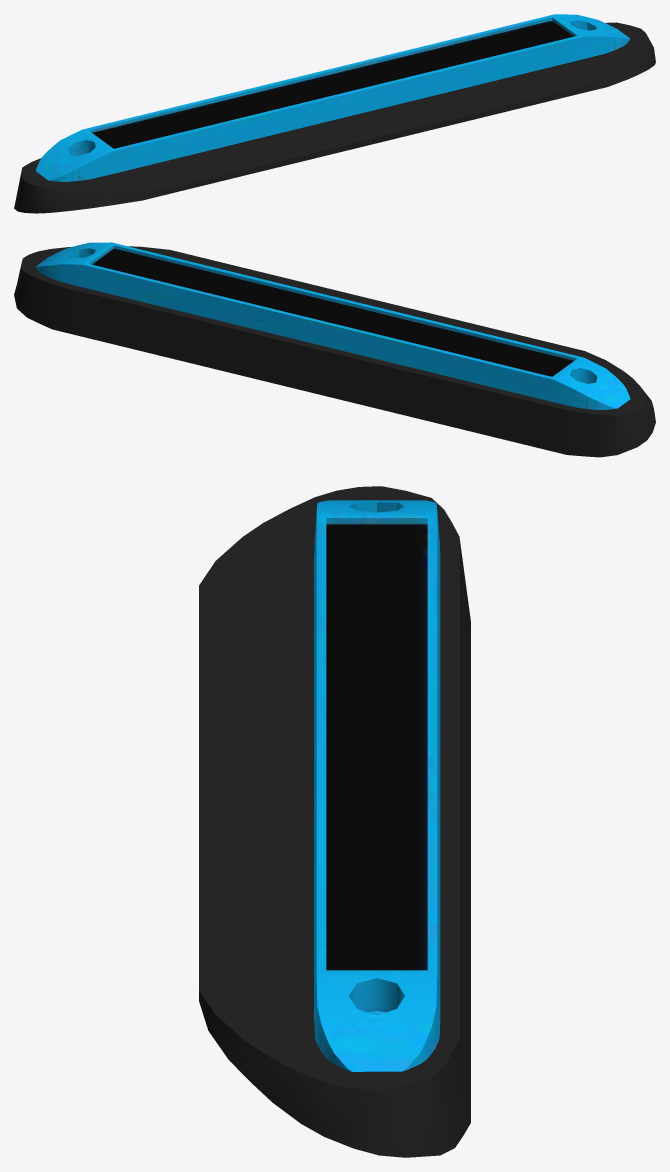
The model's file is omniscan_450_sidescan.visual.glb.
3 views of the same model, one above another, from view 1: azimuth 30°, elevation 25°; view 2: azimuth 150°, elevation 25°; view 3: azimuth 270°, elevation 25° (orthographic). The views are drawn at different scales.
Visible parts, largest first — view 1: omniscan_450_sidescan.visual.001; view 2: omniscan_450_sidescan.visual.001; view 3: omniscan_450_sidescan.visual.001.
Part boxes in pixels (x1=…): omniscan_450_sidescan.visual.001: x1=14, y1=14, x2=655, y2=213; omniscan_450_sidescan.visual.001: x1=14, y1=242, x2=655, y2=457; omniscan_450_sidescan.visual.001: x1=199, y1=486, x2=470, y2=1157.
Size of the model in its own units: 0.3327 by 0.0323 by 0.0622.
1 material, 1 textured.
